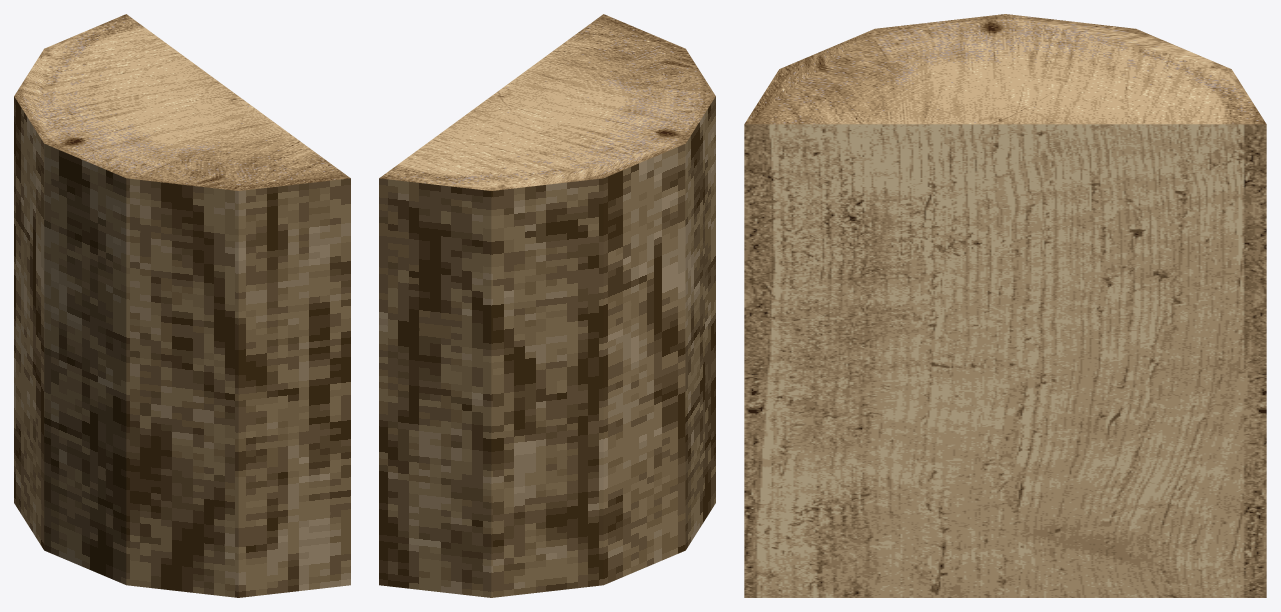
Rendered from half-log.glb.
The picture shows the model from 3 angles, left to right: view 1: azimuth 30°, elevation 25°; view 2: azimuth 150°, elevation 25°; view 3: azimuth 270°, elevation 25°; orthographic projection. The views are drawn at different scales.
Visible parts, largest first — view 1: Cylinder; view 2: Cylinder; view 3: Cylinder.
Part boxes in pixels (<box>): Cylinder: <box>14,14,350,597</box>; Cylinder: <box>379,14,715,597</box>; Cylinder: <box>744,14,1266,597</box>.
Bounding box in the file's own units: 1 × 2 × 2.
Materials: 3 (3 with a texture image).
